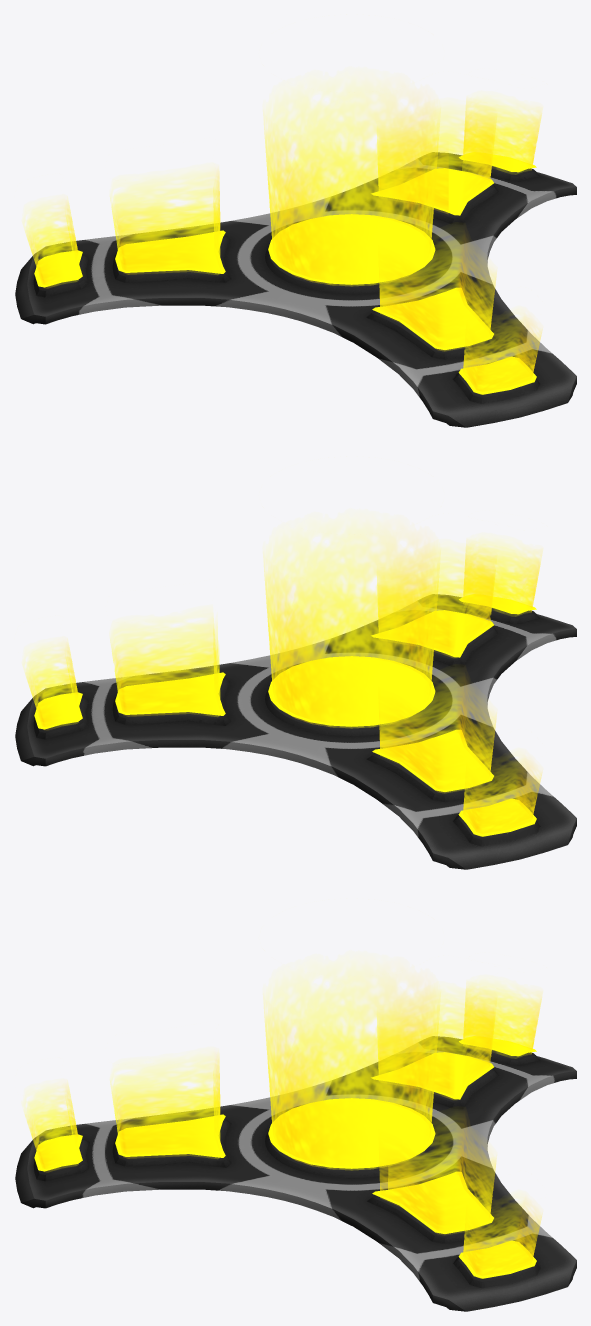
File: boost_big.draco.glb
3 renders of one model, top to bottom at view 1: azimuth 30°, elevation 25°; view 2: azimuth 150°, elevation 25°; view 3: azimuth 270°, elevation 25°, orthographic.
Parts seen in each view (by area): view 1: BoostPad_Large_Glow, BoostPad_Large; view 2: BoostPad_Large_Glow, BoostPad_Large; view 3: BoostPad_Large_Glow, BoostPad_Large.
Boxes of the visible parts, bbox=[...] form: BoostPad_Large_Glow: bbox=[25, 91, 541, 394]; BoostPad_Large: bbox=[15, 152, 576, 427]; BoostPad_Large_Glow: bbox=[25, 533, 541, 836]; BoostPad_Large: bbox=[15, 594, 576, 869]; BoostPad_Large_Glow: bbox=[24, 975, 541, 1278]; BoostPad_Large: bbox=[15, 1036, 576, 1311].
Bounding box in the file's own units: 168 × 70.76 × 150.
3 materials, 2 textured.
